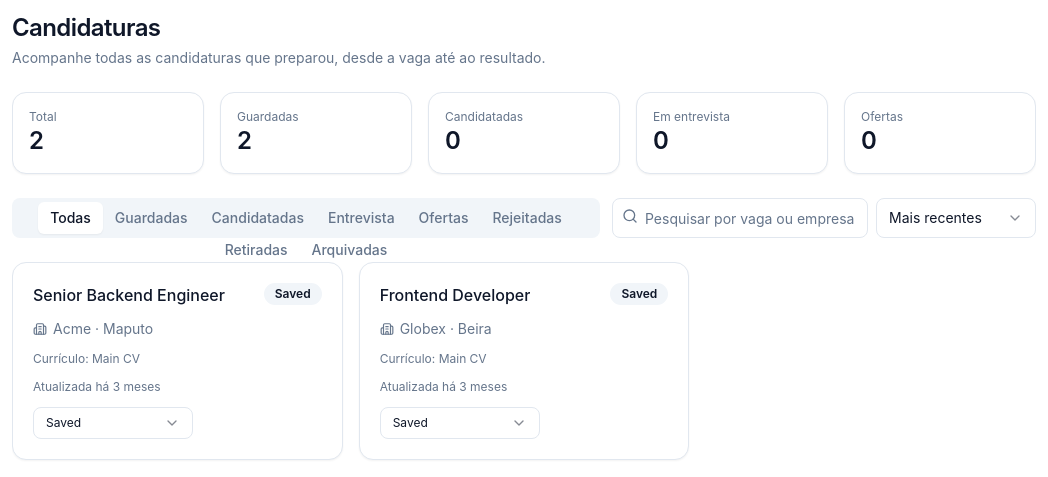
Test: ApplicationsPage › searches by company
This screenshot has width=1048, height=477.
Expected: the text "Senior Backend Engineer" is shown, [33,283,225,307]
In the field named "Pesquisar candidaturas": {"x": 740, "y": 218} [612,198,868,238], type "Globex"
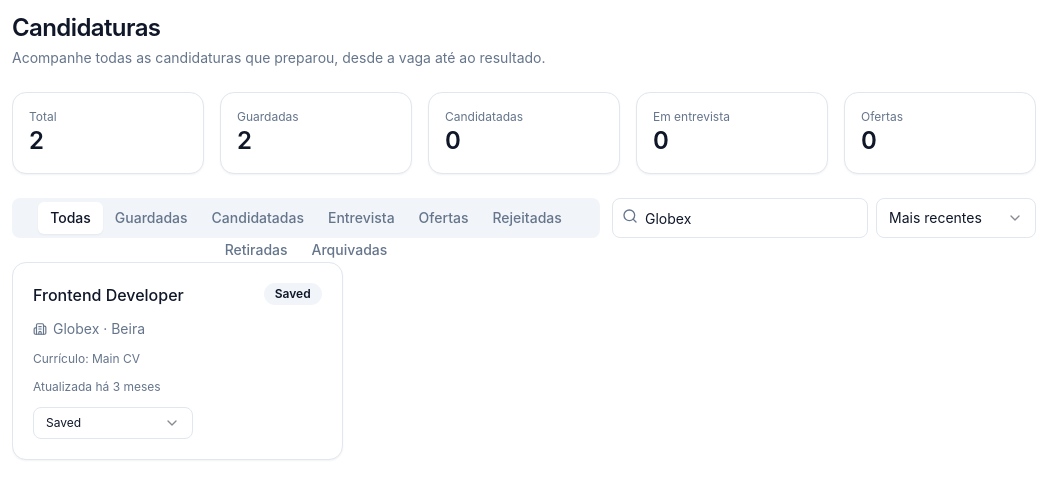
Expected: the text "Frontend Developer" is shown, [33,283,184,307]
Result: the link "Senior Backend Engineer" is gone
